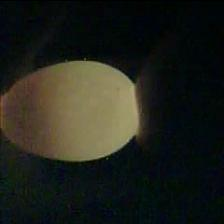infertile: (0, 56, 141, 164)
